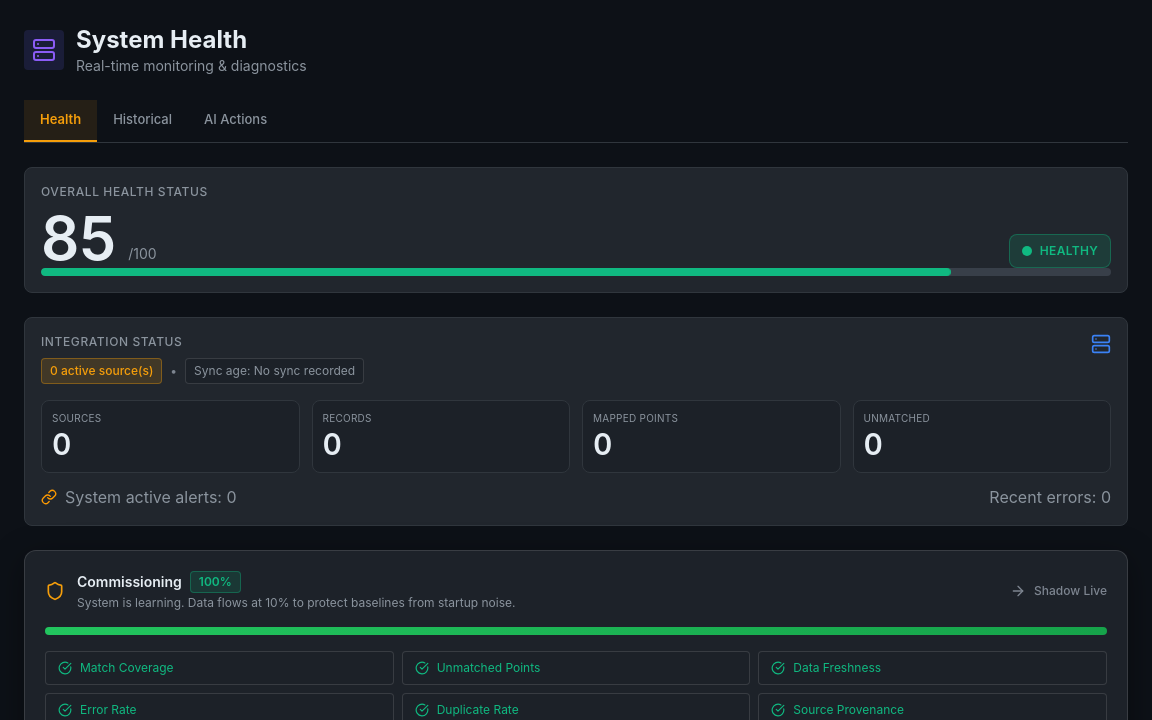
SystemHealthPage › Historical Insights Display › should display stable trend with gray badge
Expected: the heading "System Health" is shown, [76,25,247,54]
Click the tab "Historical": (142, 121) [97,100,188,142]
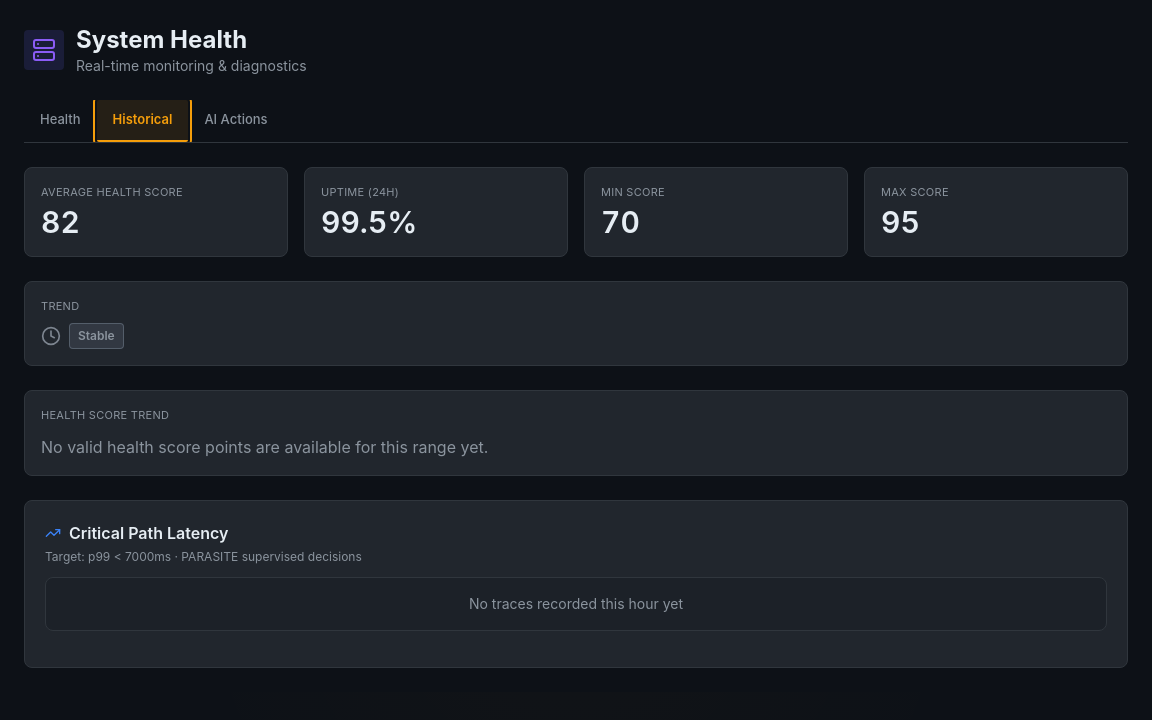
Expected: the text "Stable" is shown, [69,322,124,348]
